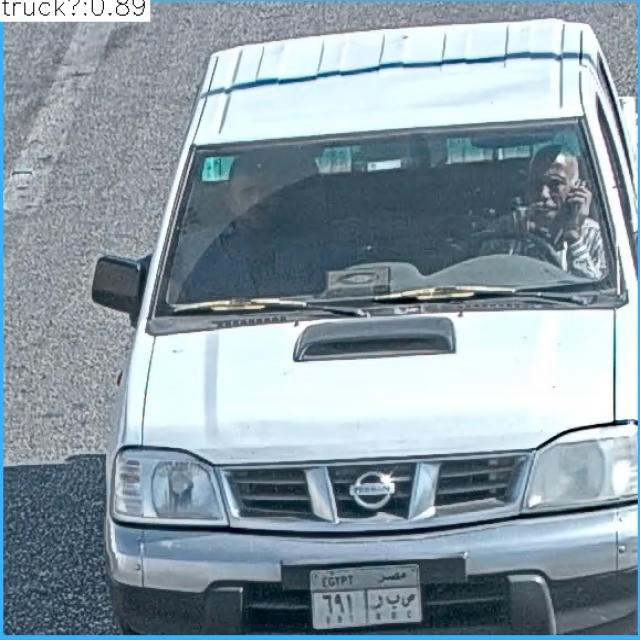windshield: (161, 132, 595, 312)
